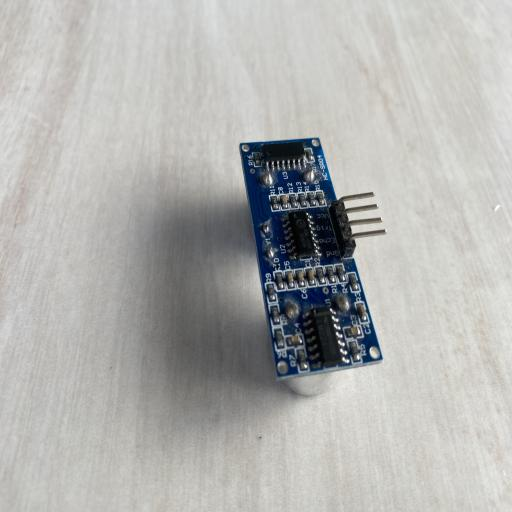Ultrasonic Sensor: (237, 136, 388, 398)
